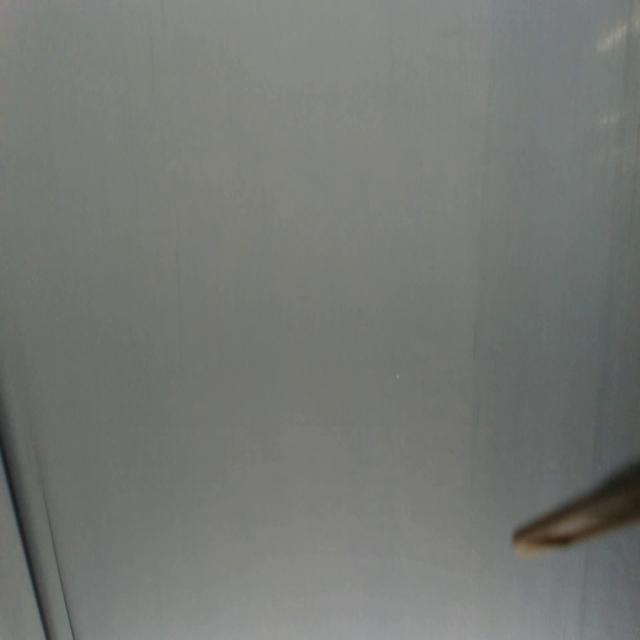crease: (0, 431, 49, 640), (44, 489, 76, 640)
hole: (394, 370, 401, 382)
